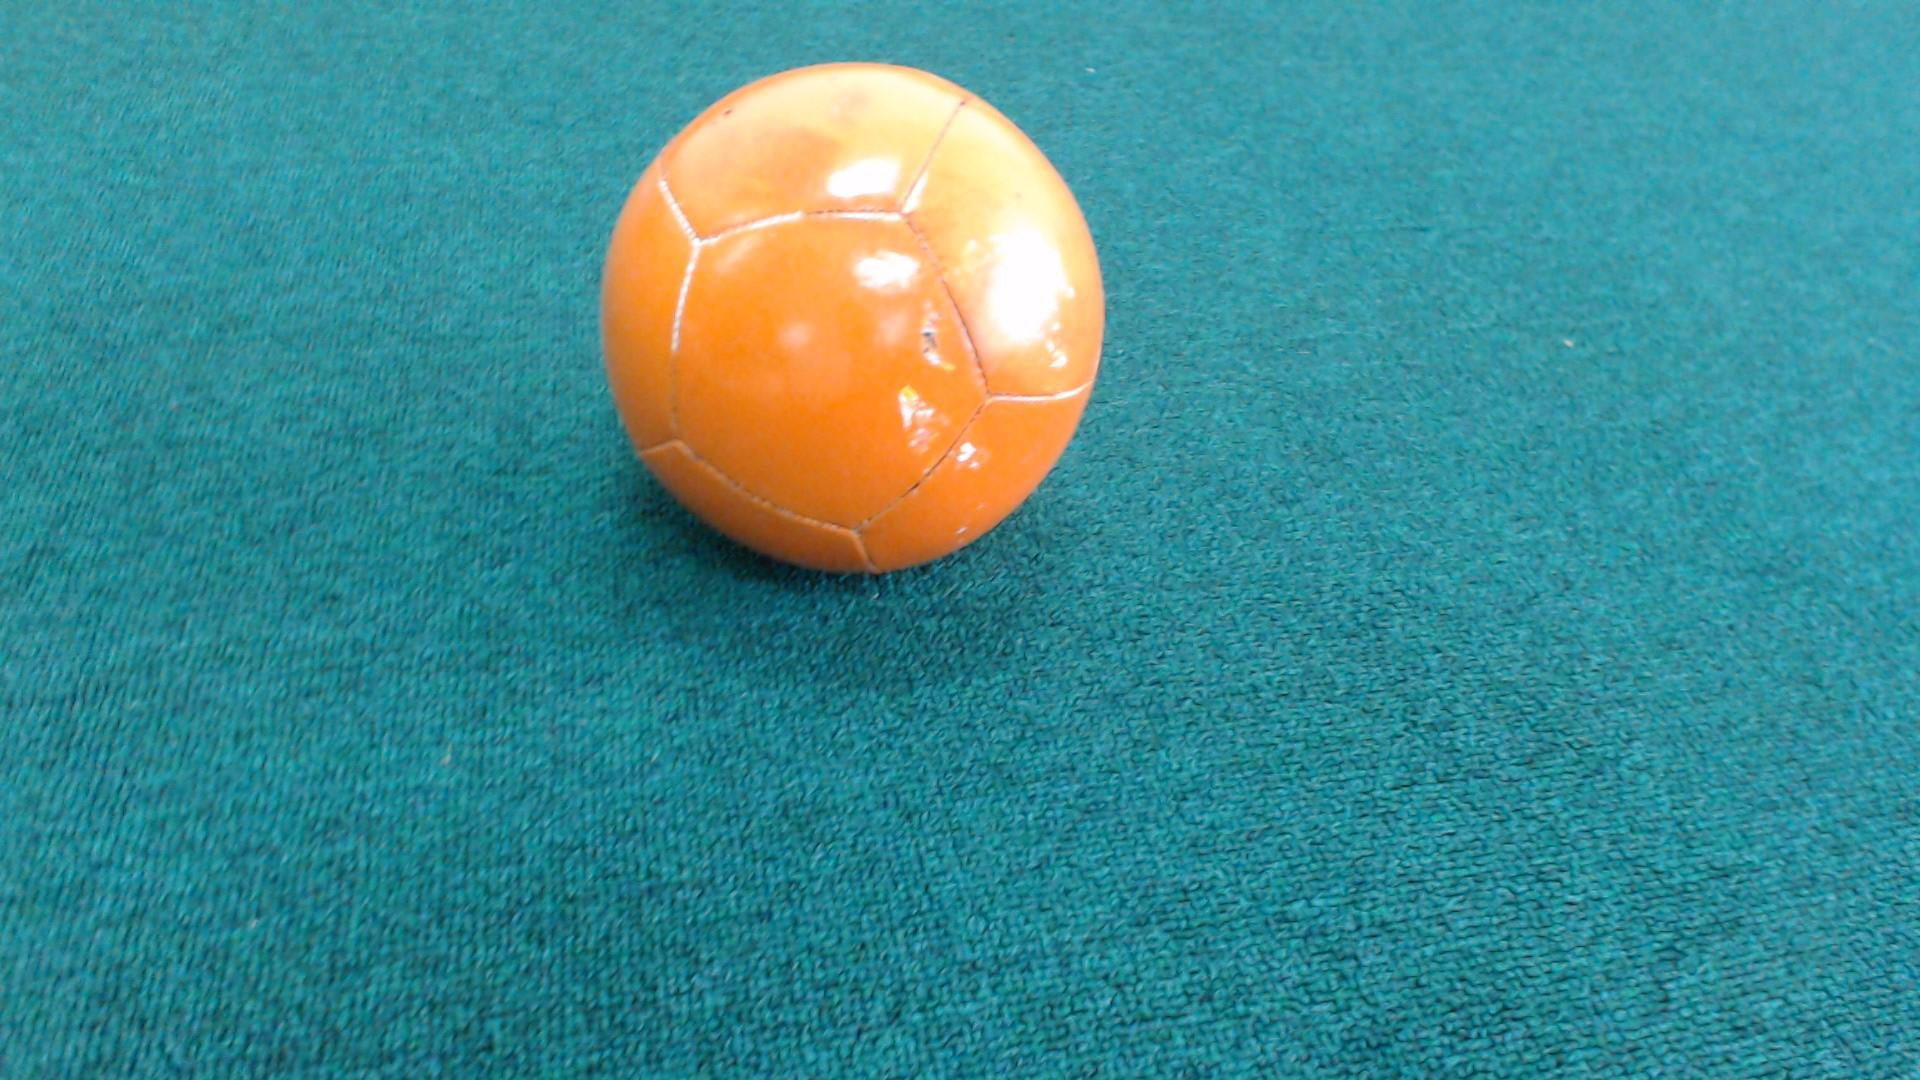bola: (558, 49, 1156, 613)
